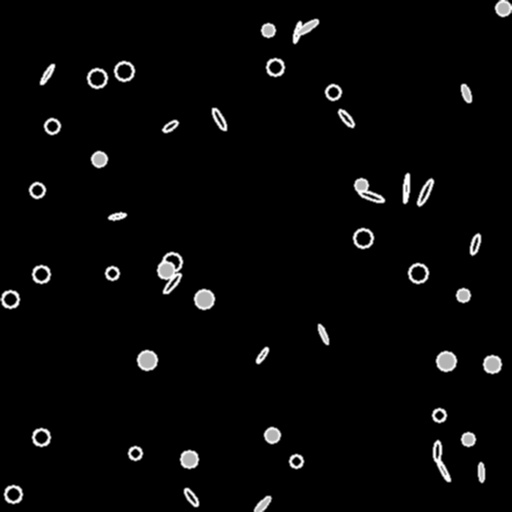pseudomonas: (416, 178, 434, 206), (162, 271, 182, 295), (295, 18, 319, 36), (358, 188, 384, 204), (211, 107, 227, 131), (435, 458, 451, 482), (252, 494, 272, 512), (337, 108, 355, 128), (182, 487, 200, 507), (39, 63, 55, 85), (469, 233, 481, 255), (255, 346, 269, 364), (161, 119, 179, 133), (460, 83, 472, 103), (317, 324, 329, 344), (402, 173, 410, 203), (292, 21, 302, 43), (433, 440, 441, 462), (109, 212, 125, 220), (478, 462, 484, 482)
synechocystis: (409, 264, 427, 282), (163, 253, 181, 271), (354, 229, 372, 247), (138, 351, 156, 369), (195, 290, 213, 308), (115, 62, 133, 80), (88, 69, 106, 87), (437, 352, 455, 370), (181, 451, 197, 467), (5, 486, 21, 502), (267, 59, 283, 75), (158, 262, 174, 278), (484, 356, 500, 372), (33, 266, 49, 282), (2, 291, 18, 307), (33, 429, 49, 445), (326, 85, 340, 99), (92, 152, 106, 166), (30, 183, 44, 197), (265, 428, 279, 442), (45, 119, 59, 133), (496, 1, 510, 15), (290, 455, 302, 467), (106, 267, 118, 279), (462, 433, 474, 445), (355, 179, 367, 191), (262, 24, 274, 36), (457, 289, 469, 301), (433, 409, 445, 421), (129, 447, 141, 459)
